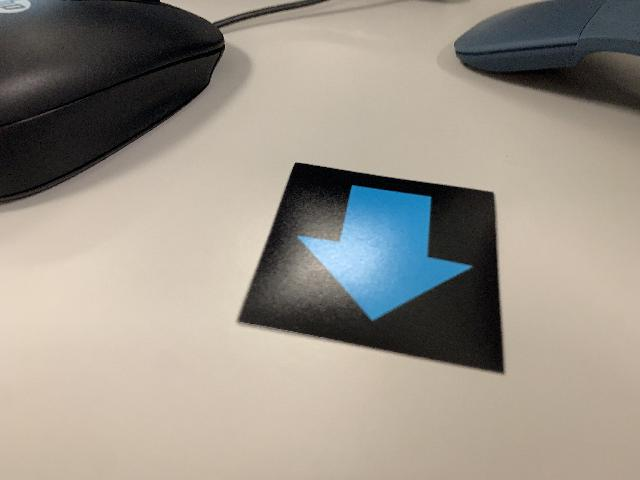down_arrow: (235, 161, 507, 375)
